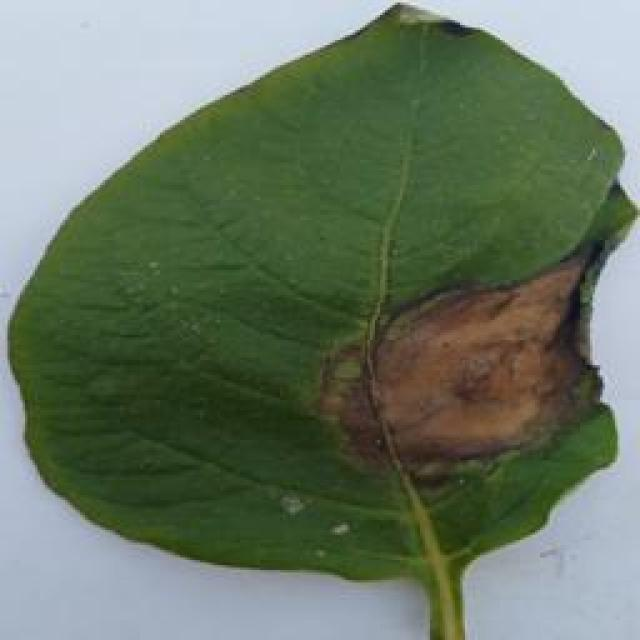Potato_Late_Blight: (1, 14, 632, 638)
